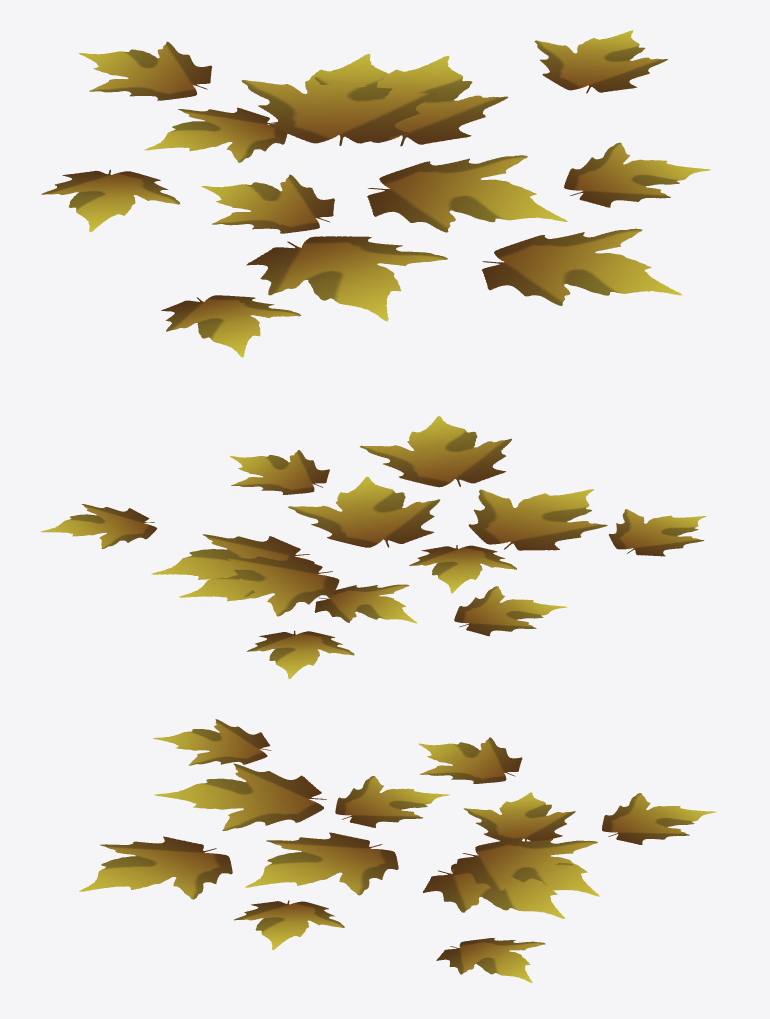
Rendered from SM_Leaf001.FBX.
The picture shows the model from 3 angles, top to bottom: view 1: azimuth 30°, elevation 25°; view 2: azimuth 150°, elevation 25°; view 3: azimuth 270°, elevation 25°; orthographic projection. The views are drawn at different scales.
Visible parts, largest first — view 1: Leaf001; view 2: Leaf001; view 3: Leaf001.
Part boxes in pixels (x1,y1,x2,y2): Leaf001: (41,30,711,357); Leaf001: (40,416,706,679); Leaf001: (79,719,716,982).
Size of the model in its own units: 149 by 161 by 1.49.
